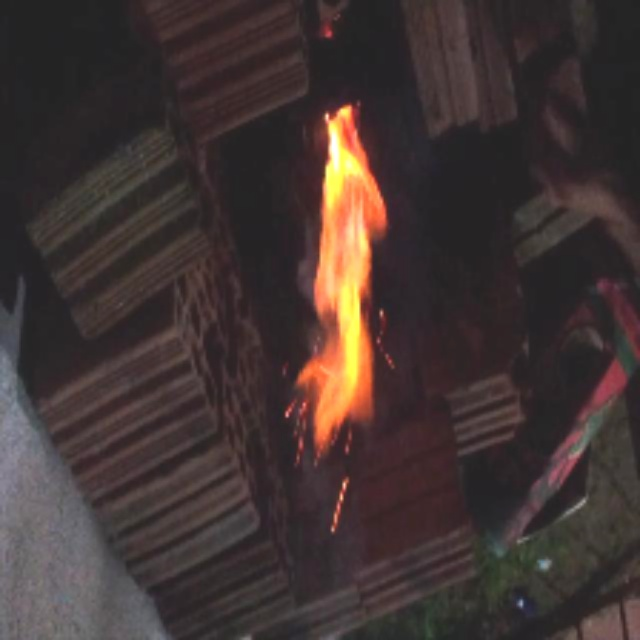fire: (238, 70, 433, 503)
